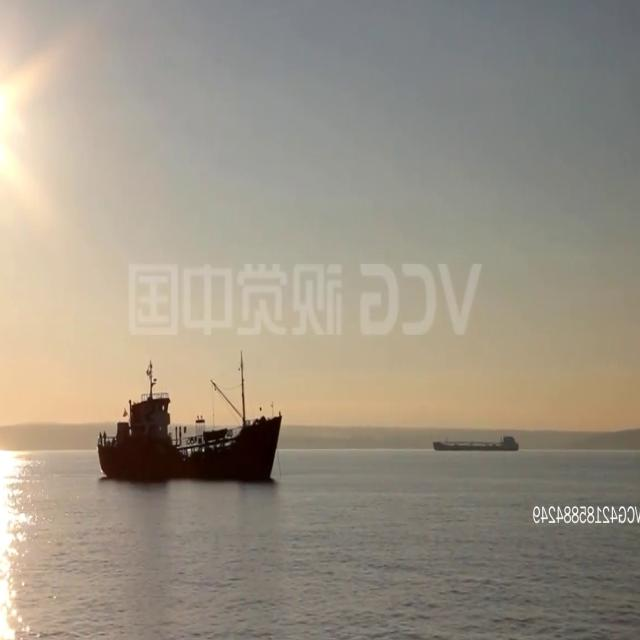fishing boat: (98, 350, 283, 482), (430, 431, 520, 455)
